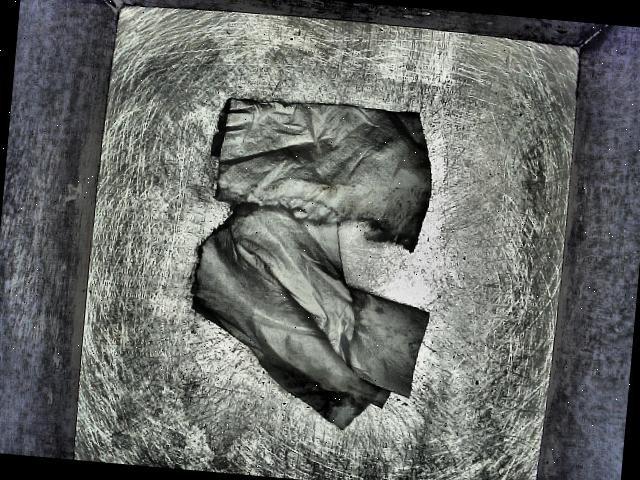Paper: (172, 210, 430, 442), (196, 87, 436, 258)
